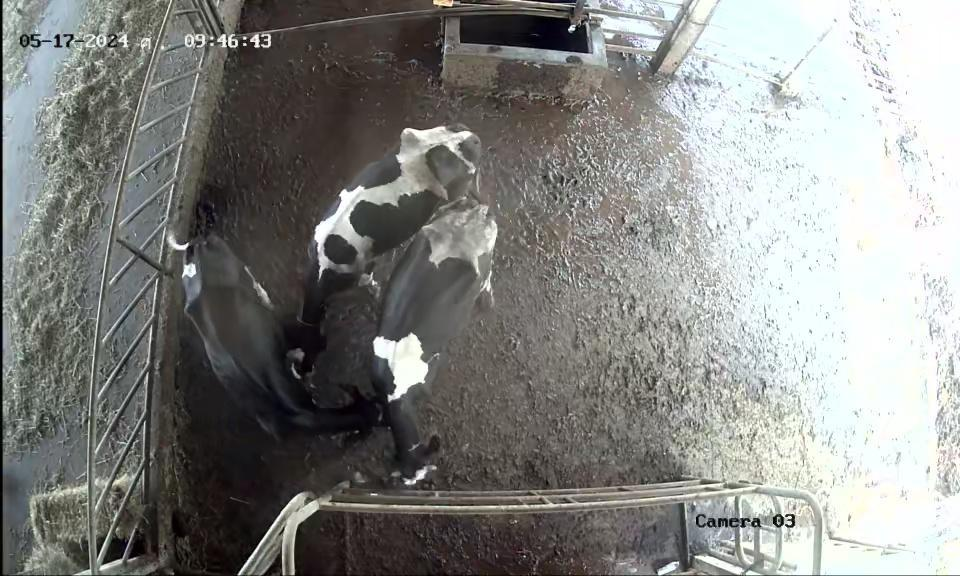stand: (165, 226, 384, 468), (292, 87, 487, 353), (346, 194, 508, 486)
